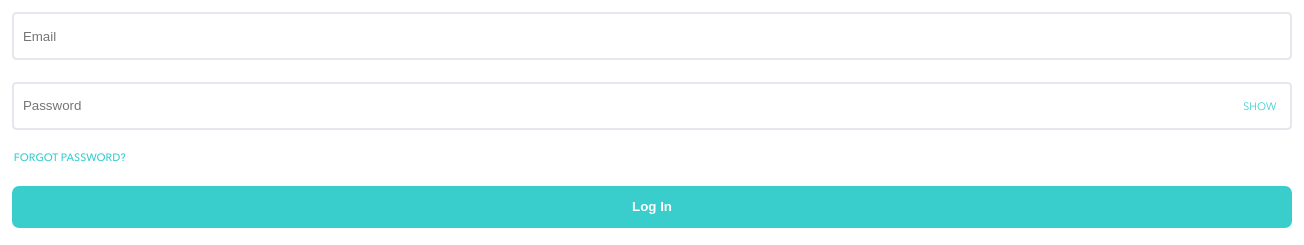
Test: LoginForm › submits the form with valid credentials
# Fill out the form fields
Type "test@example.com" into the field with placeholder "Email" at (652, 36), box [14,14,1290,58]
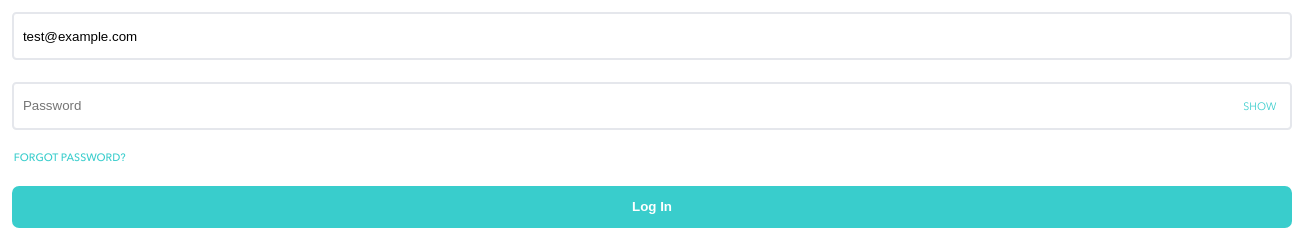
Type "password123" into the password field with placeholder "Password" at (652, 106), box [14,84,1290,128]
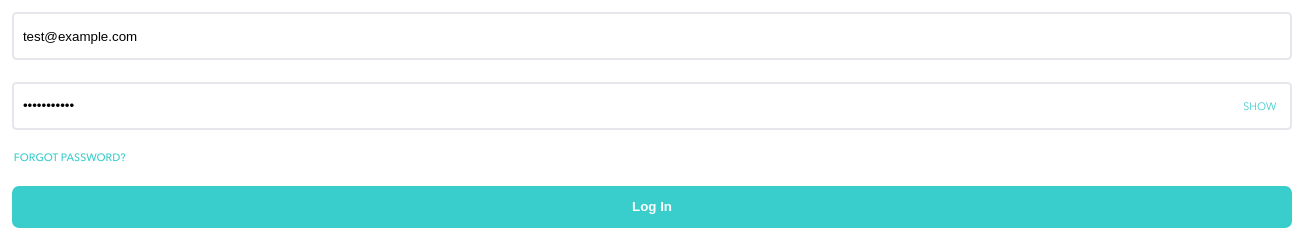
# Submit the form
Click the button "Log In" at (652, 207), box [12,186,1292,228]
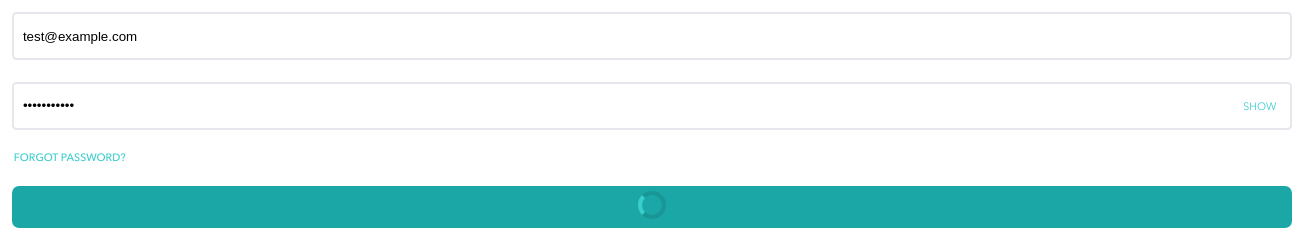
Check: the button is disabled, box [12,186,1292,228]
Check: the element with test id "loader" is shown, box [638,192,666,220]
